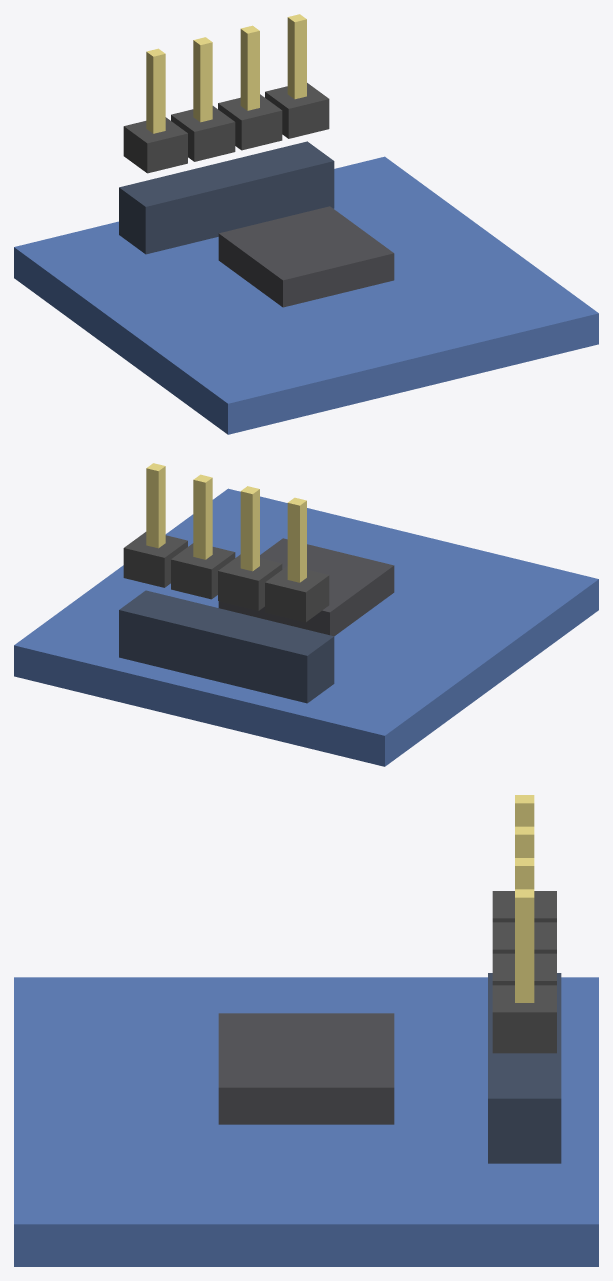
Rendered from opto-pc817.glb.
3 renders of one model, top to bottom at view 1: azimuth 30°, elevation 25°; view 2: azimuth 150°, elevation 25°; view 3: azimuth 270°, elevation 25°, orthographic. The views are drawn at different scales.
Parts seen in each view (by area): view 1: optocoupler-pc817_mesh; view 2: optocoupler-pc817_mesh; view 3: optocoupler-pc817_mesh.
Boxes of the visible parts, <box> form: optocoupler-pc817_mesh: <box>14,14,598,434</box>; optocoupler-pc817_mesh: <box>14,463,598,766</box>; optocoupler-pc817_mesh: <box>14,795,598,1266</box>.
Size of the model in its own units: 20 by 11.2 by 20.
